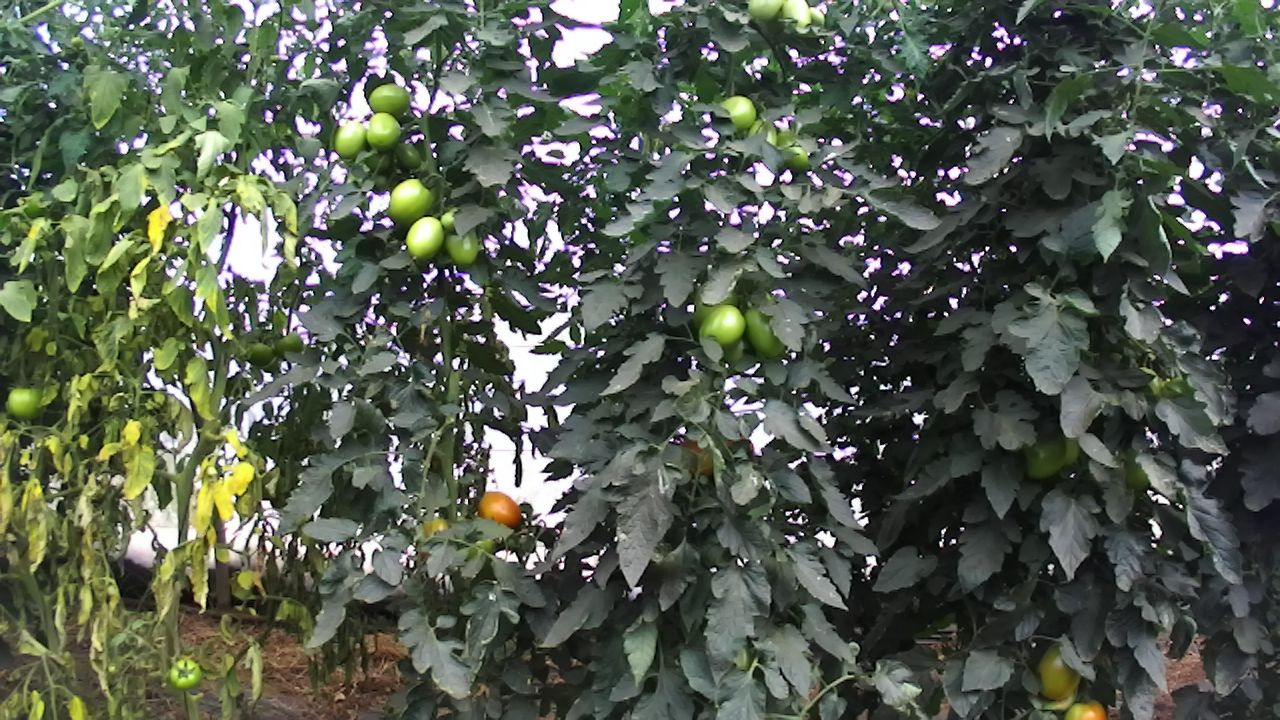tomato: (1033, 640, 1082, 702), (743, 304, 786, 360), (1021, 432, 1069, 481), (388, 175, 435, 225), (698, 302, 746, 348), (403, 213, 445, 261), (479, 491, 525, 532), (3, 380, 43, 421), (367, 82, 412, 118), (363, 110, 402, 150), (720, 92, 759, 132), (444, 226, 479, 266), (334, 119, 368, 160), (166, 654, 203, 691), (1061, 693, 1111, 720), (747, 0, 785, 21)
